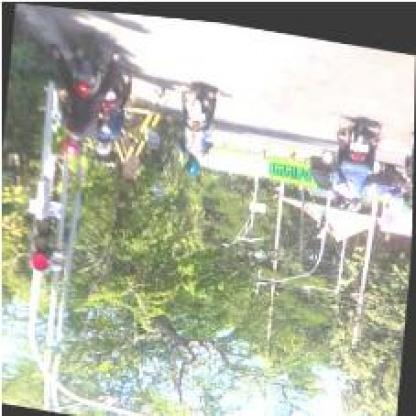red: (30, 214, 52, 270)
